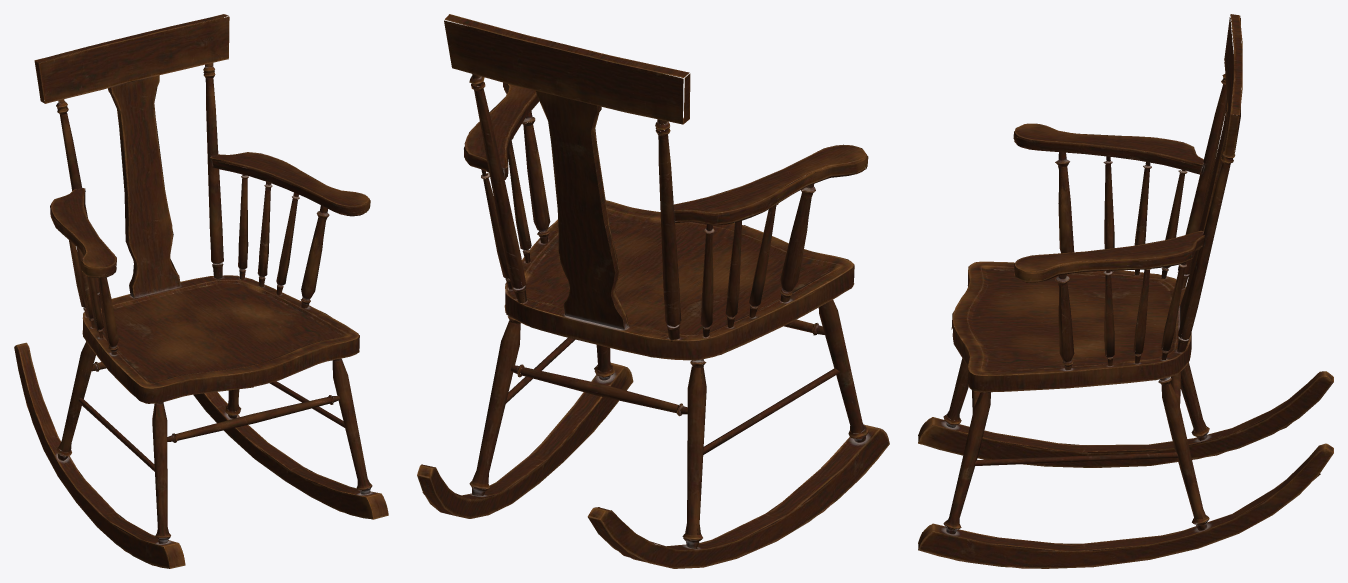
The model's file is ph-Rockingchair_01.glb.
3 renders of one model, left to right at view 1: azimuth 30°, elevation 25°; view 2: azimuth 150°, elevation 25°; view 3: azimuth 270°, elevation 25°, orthographic. The views are drawn at different scales.
Visible parts, largest first — view 1: Rockingchair_01; view 2: Rockingchair_01; view 3: Rockingchair_01.
Boxes of the visible parts, <box> form: Rockingchair_01: <box>14,14,388,568</box>; Rockingchair_01: <box>417,14,889,568</box>; Rockingchair_01: <box>918,14,1333,568</box>.
Bounding box in the file's own units: 0.7093 × 0.9949 × 0.8337.
Materials: 1 (1 with a texture image).
